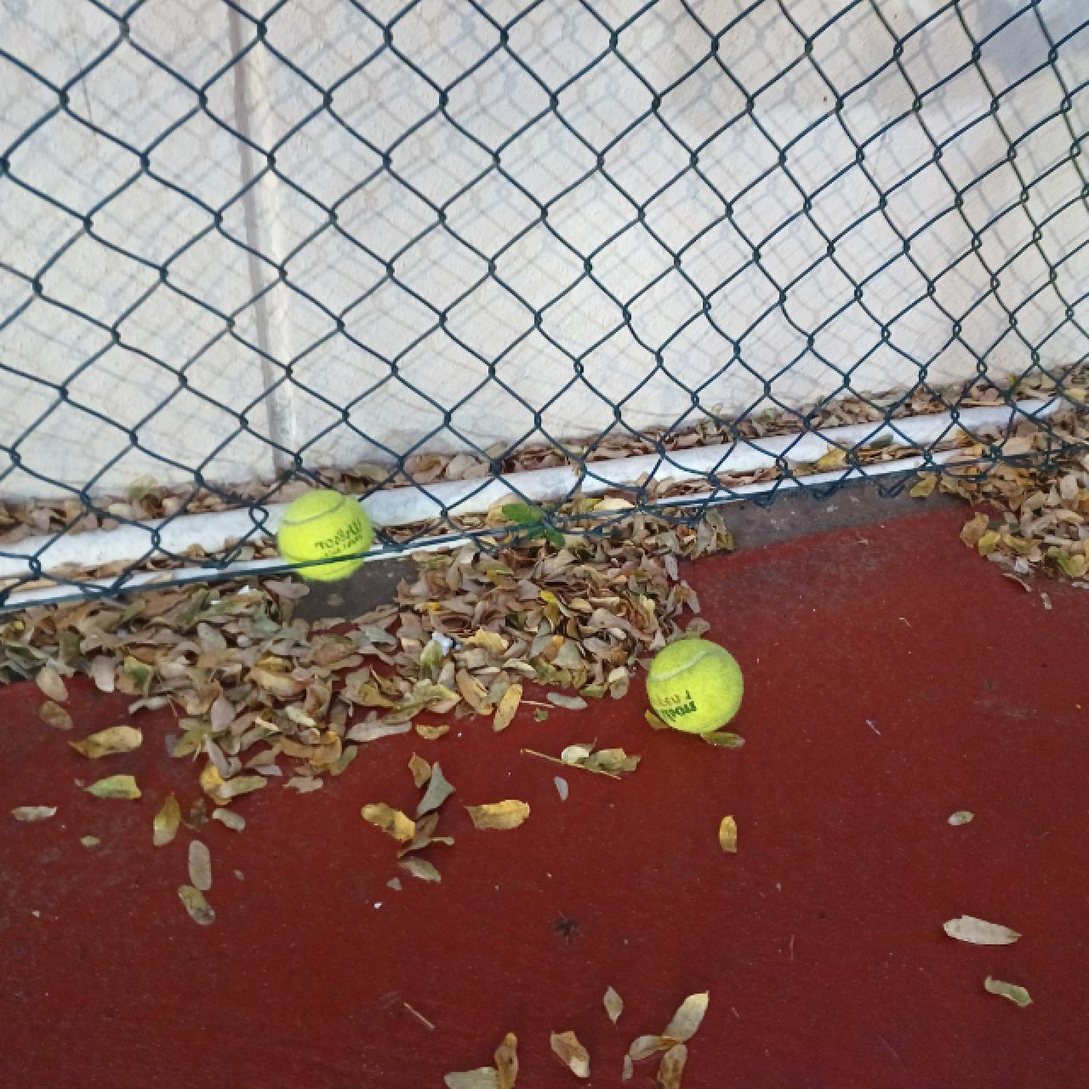tennis-ball: (645, 636, 746, 736), (277, 489, 374, 583)
